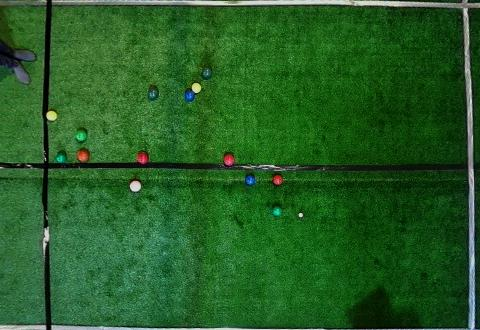blue: (184, 90, 195, 102), (245, 175, 256, 186)
green: (76, 129, 87, 142), (56, 152, 67, 163), (272, 205, 282, 217), (148, 88, 158, 100), (202, 68, 212, 78)
red: (77, 149, 90, 162), (223, 154, 235, 166), (130, 180, 142, 192), (137, 152, 148, 165), (272, 175, 283, 186)
vline: (1, 0, 53, 329), (459, 0, 479, 330)
white: (298, 213, 303, 218)
yellow: (46, 110, 57, 122), (191, 82, 202, 93)
